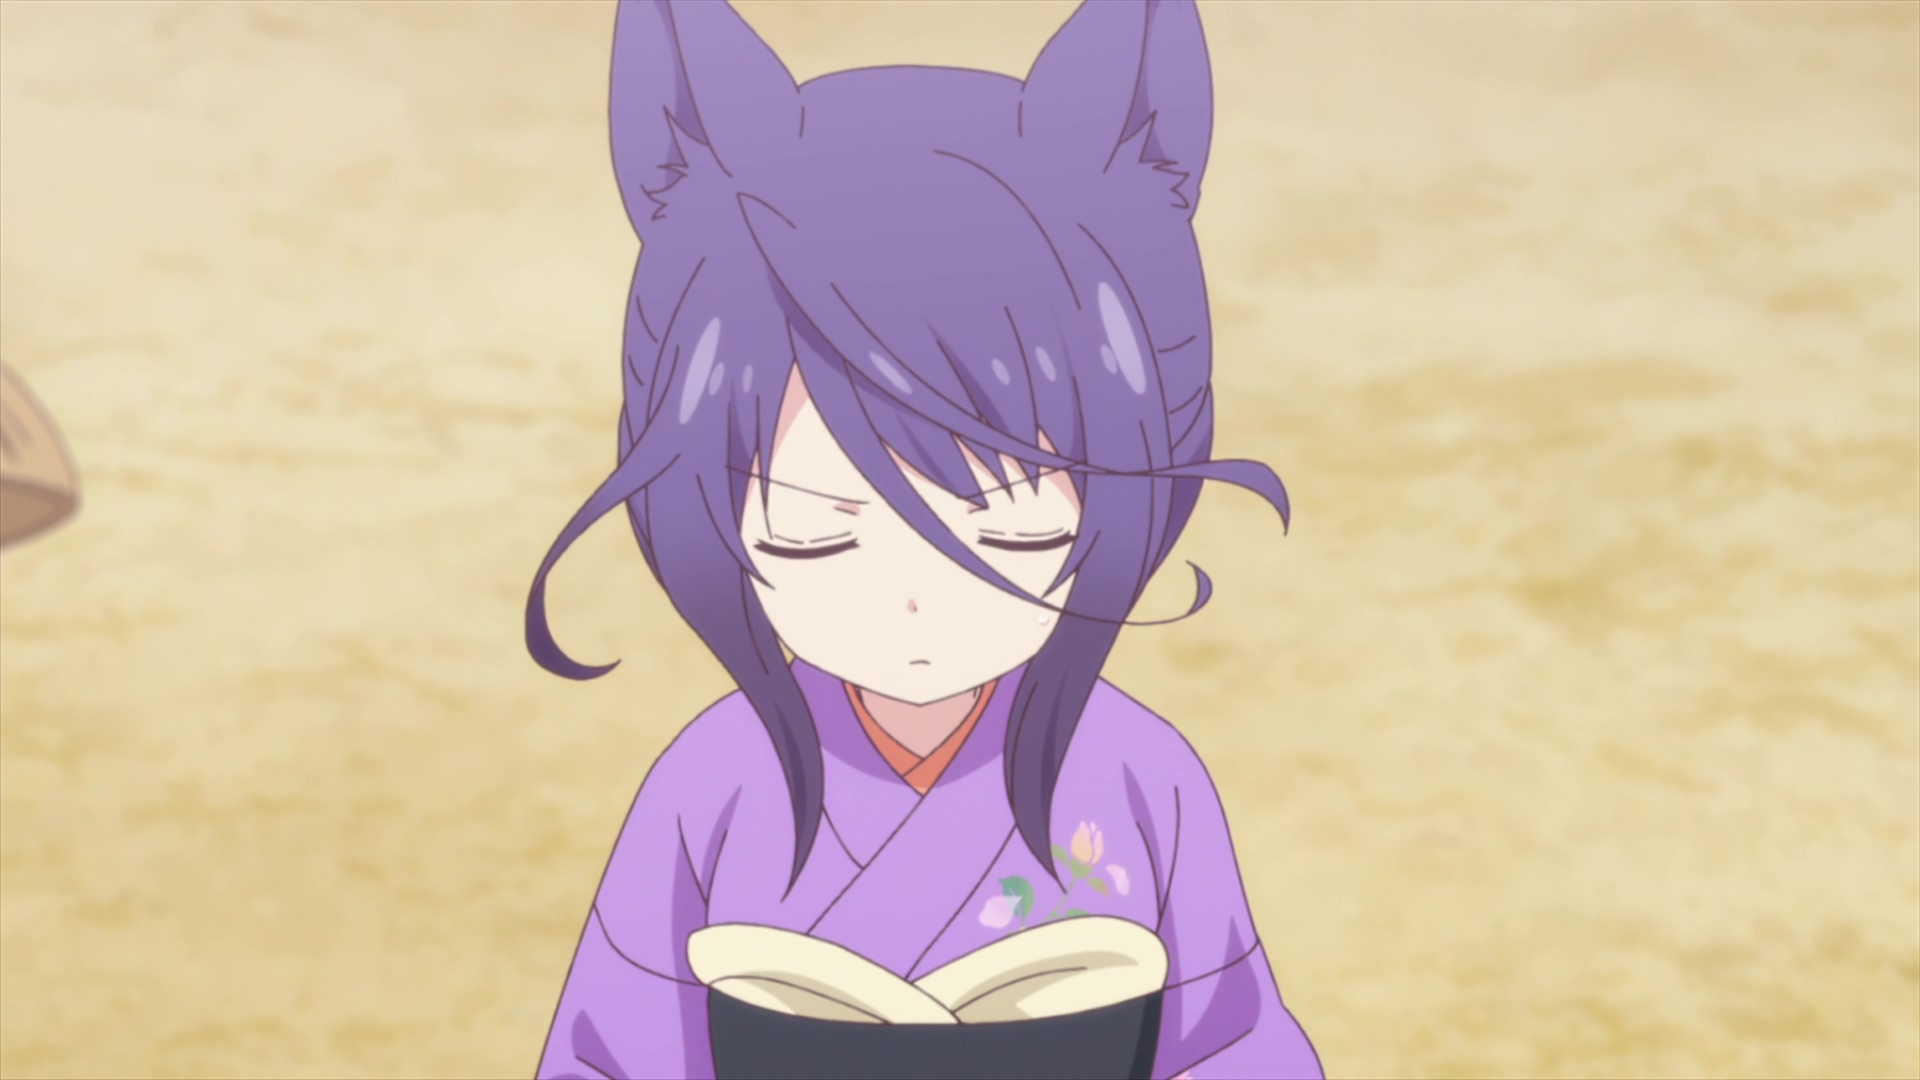皋: (525, 1, 1327, 1080)
